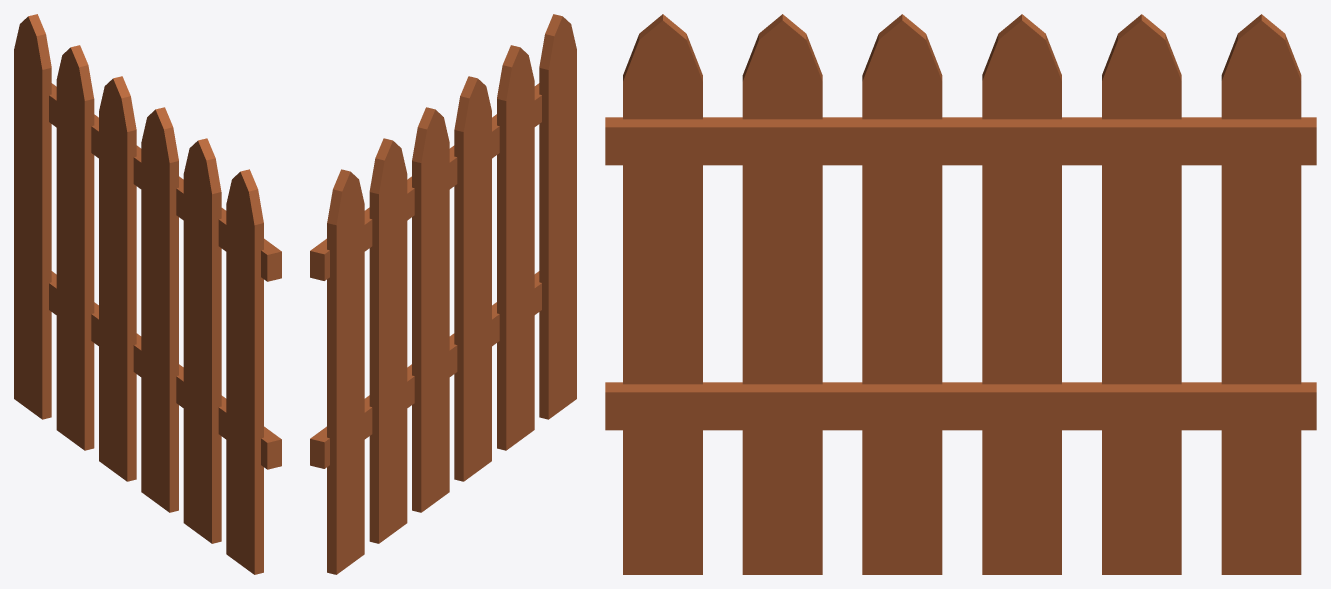
Rendered from StraightFence.fbx.
3 views of the same model, side by side, from view 1: azimuth 30°, elevation 25°; view 2: azimuth 150°, elevation 25°; view 3: azimuth 270°, elevation 25° (orthographic). The views are drawn at different scales.
Visible parts, largest first — view 1: Cube, Cube.001; view 2: Cube, Cube.001; view 3: Cube, Cube.001.
Part boxes in pixels (box(x1,y1,x2,y2)): Cube: box(14, 14, 263, 574); Cube.001: box(49, 83, 281, 469); Cube: box(327, 14, 576, 574); Cube.001: box(310, 83, 541, 468); Cube: box(623, 14, 1301, 574); Cube.001: box(605, 117, 1316, 430).
Size of the model in its own units: 15.53 by 277 by 322.
